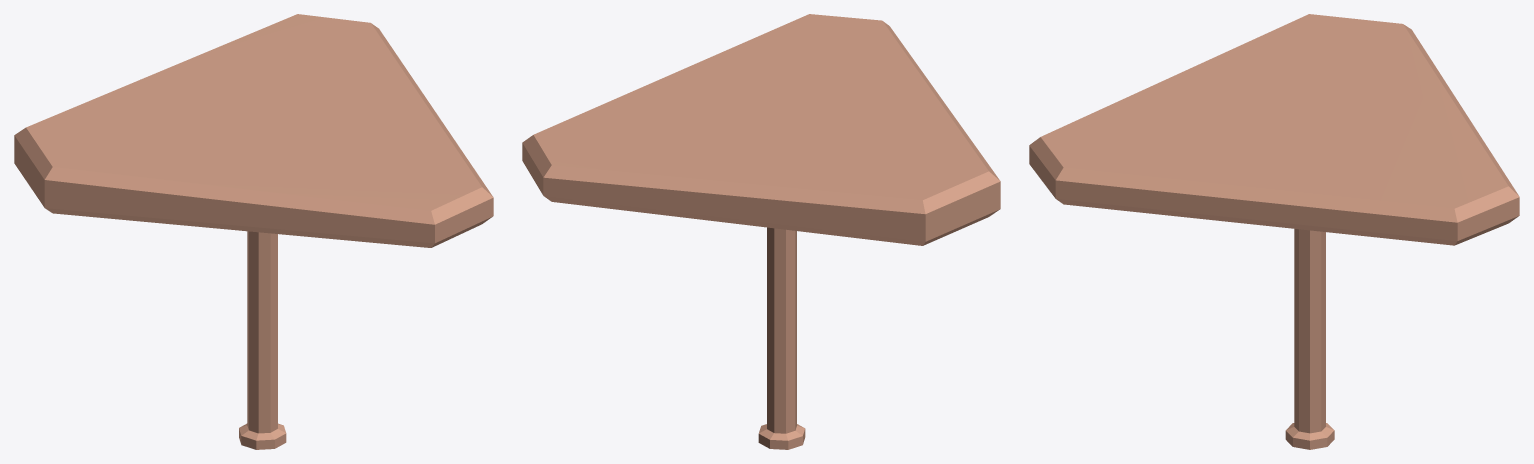
The model's file is Mesa1.fbx.
3 views of the same model, side by side, from view 1: azimuth 30°, elevation 25°; view 2: azimuth 150°, elevation 25°; view 3: azimuth 270°, elevation 25° (orthographic).
Visible parts, largest first — view 1: polySurface52; view 2: polySurface52; view 3: polySurface52.
Part boxes in pixels (x1,y1,x2,y2): polySurface52: (14, 14, 493, 449); polySurface52: (522, 14, 1000, 449); polySurface52: (1029, 14, 1519, 449).
Bounding box in the file's own units: 2.24 × 1.69 × 2.32.
